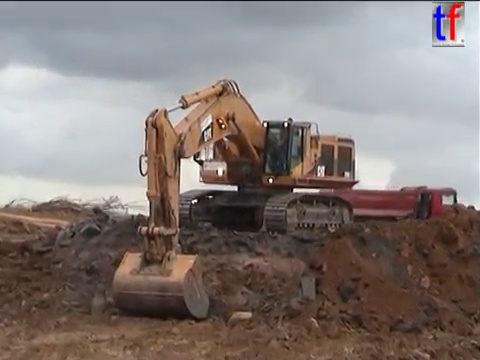excavator: (109, 76, 360, 324)
truck: (317, 183, 460, 236)
